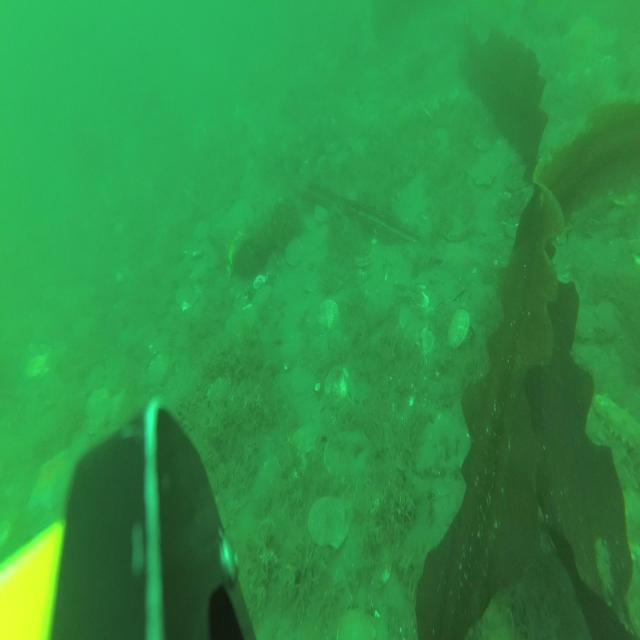holothurian: (592, 393, 640, 459)
scallop: (308, 500, 348, 553), (326, 433, 368, 482), (448, 306, 470, 351), (597, 296, 621, 337), (86, 394, 110, 431), (292, 422, 316, 459), (316, 300, 341, 334), (148, 354, 172, 386), (471, 161, 495, 192), (26, 354, 50, 383), (285, 236, 306, 269), (445, 218, 467, 248), (174, 284, 194, 308)
starfish: (29, 451, 78, 512)
